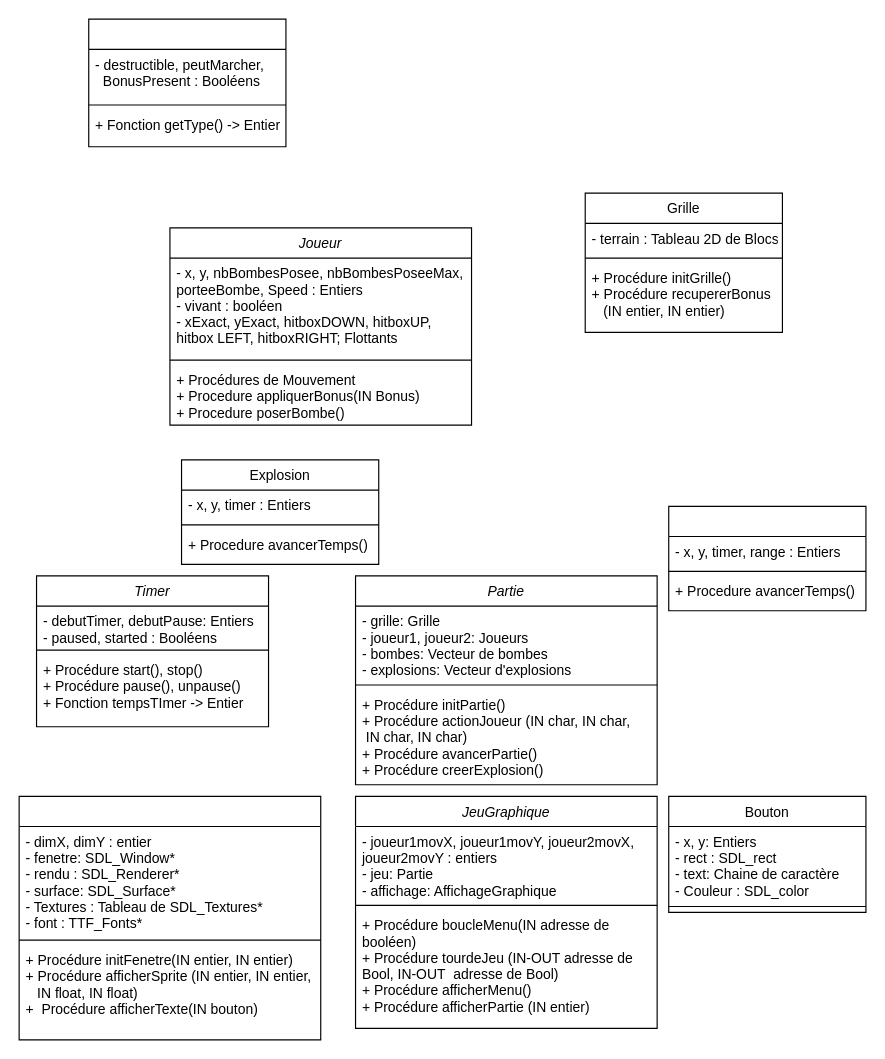
Some shapes in this 885 by 1059 pixel diagram are drawn without their labels. The box of each missing label's shape, as (x1, y1, x2, y2) in pixels:
AffichageGraphique: (18, 795, 321, 1040)
Bloc: (88, 18, 286, 147)
Bombes: (668, 505, 866, 611)
